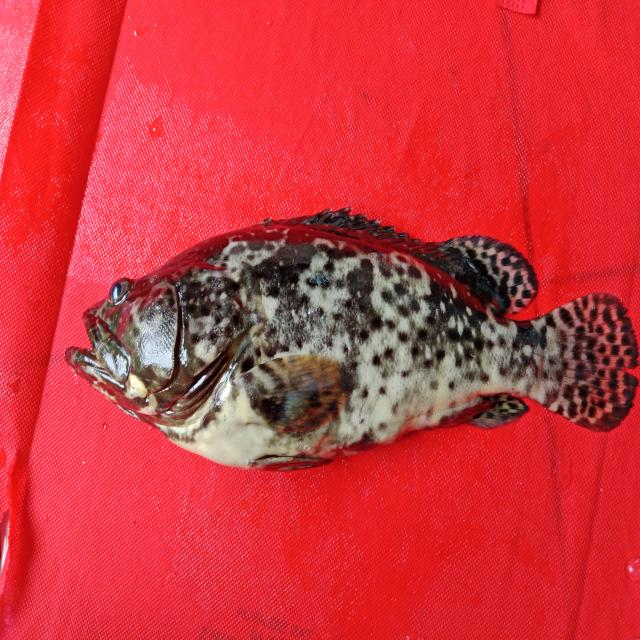ikan: (60, 188, 634, 477)
